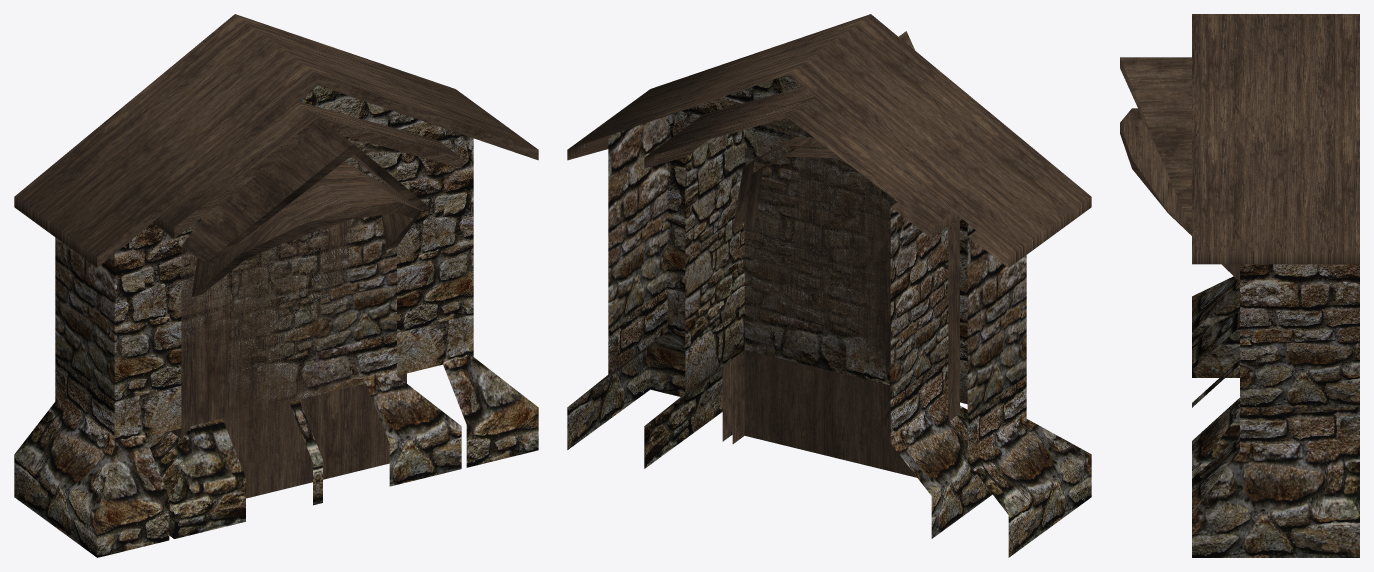
File: DoorBacks.fbx
3 views of the same model, side by side, from view 1: azimuth 30°, elevation 25°; view 2: azimuth 150°, elevation 25°; view 3: azimuth 270°, elevation 25° (orthographic).
Parts seen in each view (by area): view 1: Double_Door_Back_Mid_1, Double_Door_Back_Roof, Single_Door_Back_Mid_1, Door_Backing, Door_Backing_2, Door_Roof_2, Door_Roof, Single_Door_Back_Roof; view 2: Double_Door_Back_Mid_1, Single_Door_Back_Mid_1, Door_Backing_2, Double_Door_Back_Roof, Door_Backing, Single_Door_Back_Roof, Door_Roof; view 3: Double_Door_Back_Mid_1, Double_Door_Back_Roof, Door_Roof_2, Single_Door_Back_Mid_1, Door_Roof.
Part boxes in pixels (x1,y1,x2,y2): Double_Door_Back_Mid_1: [14, 85, 538, 557]; Double_Door_Back_Roof: [14, 14, 538, 267]; Single_Door_Back_Mid_1: [145, 135, 461, 538]; Door_Backing: [193, 218, 396, 498]; Door_Backing_2: [170, 235, 406, 497]; Door_Roof_2: [181, 118, 430, 263]; Door_Roof: [191, 163, 421, 296]; Single_Door_Back_Roof: [152, 101, 461, 238]; Double_Door_Back_Mid_1: [567, 75, 1091, 557]; Single_Door_Back_Mid_1: [644, 118, 992, 538]; Door_Backing_2: [722, 123, 959, 477]; Double_Door_Back_Roof: [567, 14, 1091, 267]; Door_Backing: [732, 137, 916, 477]; Single_Door_Back_Roof: [644, 87, 959, 238]; Door_Roof: [733, 138, 847, 231]; Double_Door_Back_Mid_1: [1192, 264, 1359, 557]; Double_Door_Back_Roof: [1192, 14, 1359, 264]; Door_Roof_2: [1120, 57, 1191, 231]; Single_Door_Back_Mid_1: [1192, 311, 1239, 478]; Door_Roof: [1120, 108, 1239, 281].
Bounding box in the file's own units: 430 × 400 × 200.
